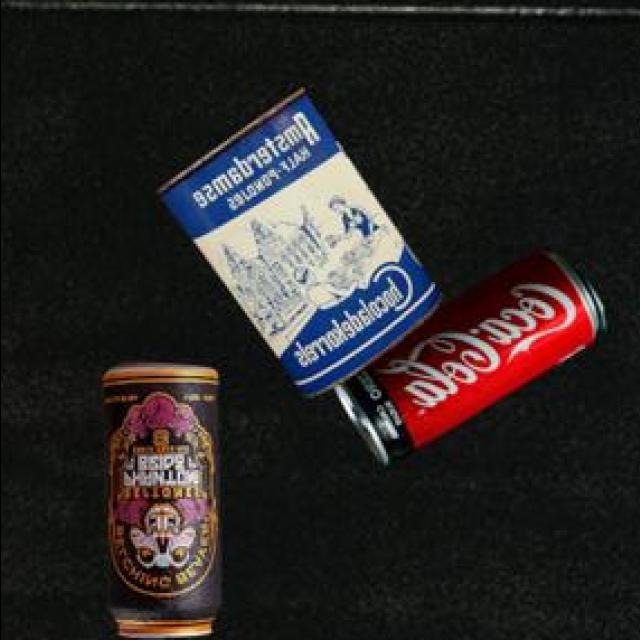logam: (153, 86, 437, 395), (330, 245, 603, 460), (100, 359, 216, 634)
